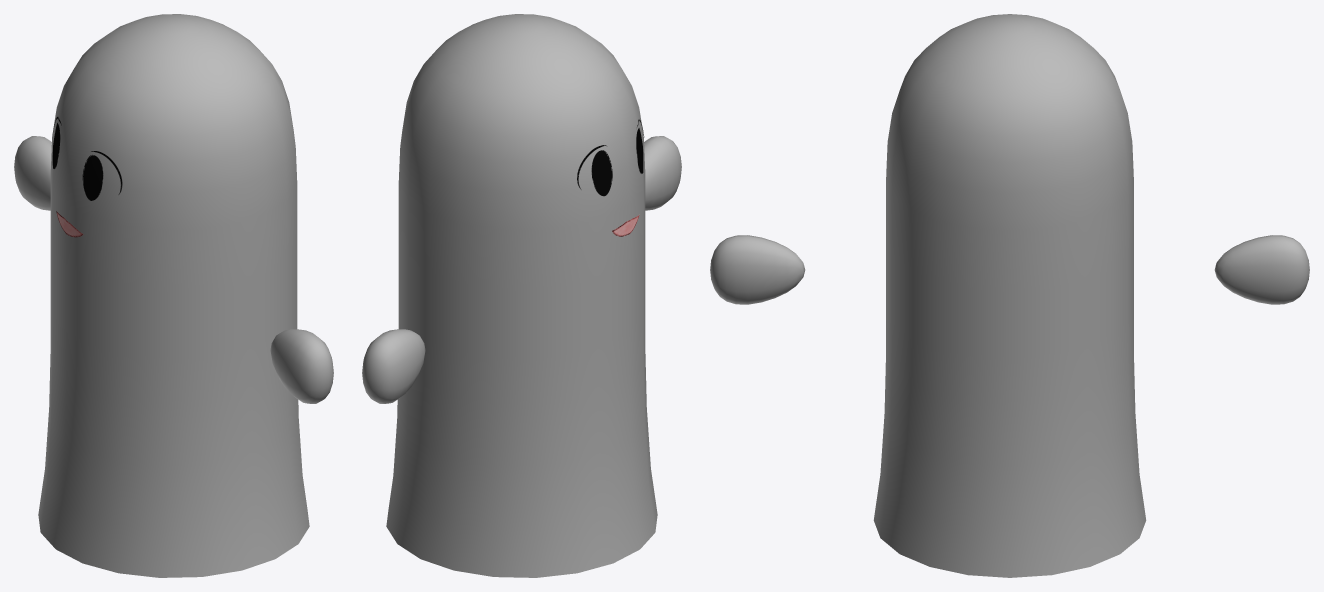
Rendered from character_ghost.fbx.
The picture shows the model from 3 angles, left to right: view 1: azimuth 30°, elevation 25°; view 2: azimuth 150°, elevation 25°; view 3: azimuth 270°, elevation 25°; orthographic projection.
Parts seen in each view (by area): view 1: pSphere1, polySurface2, polySurface1, pSphere2; view 2: pSphere1, polySurface1, polySurface2, pSphere2; view 3: pSphere1, polySurface1, polySurface2.
Boxes of the visible parts, left/top/right/bottom form: pSphere1: left=38, top=14, right=309, bottom=577; polySurface2: left=270, top=329, right=333, bottom=403; polySurface1: left=14, top=136, right=51, bottom=210; pSphere2: left=52, top=116, right=122, bottom=200; pSphere1: left=386, top=14, right=657, bottom=577; polySurface1: left=362, top=329, right=425, bottom=403; polySurface2: left=644, top=136, right=681, bottom=210; pSphere2: left=577, top=119, right=644, bottom=196; pSphere1: left=873, top=14, right=1146, bottom=577; polySurface1: left=1214, top=235, right=1309, bottom=304; polySurface2: left=710, top=235, right=805, bottom=304.
Size of the model in its own units: 1.74 by 3.48 by 3.82.
